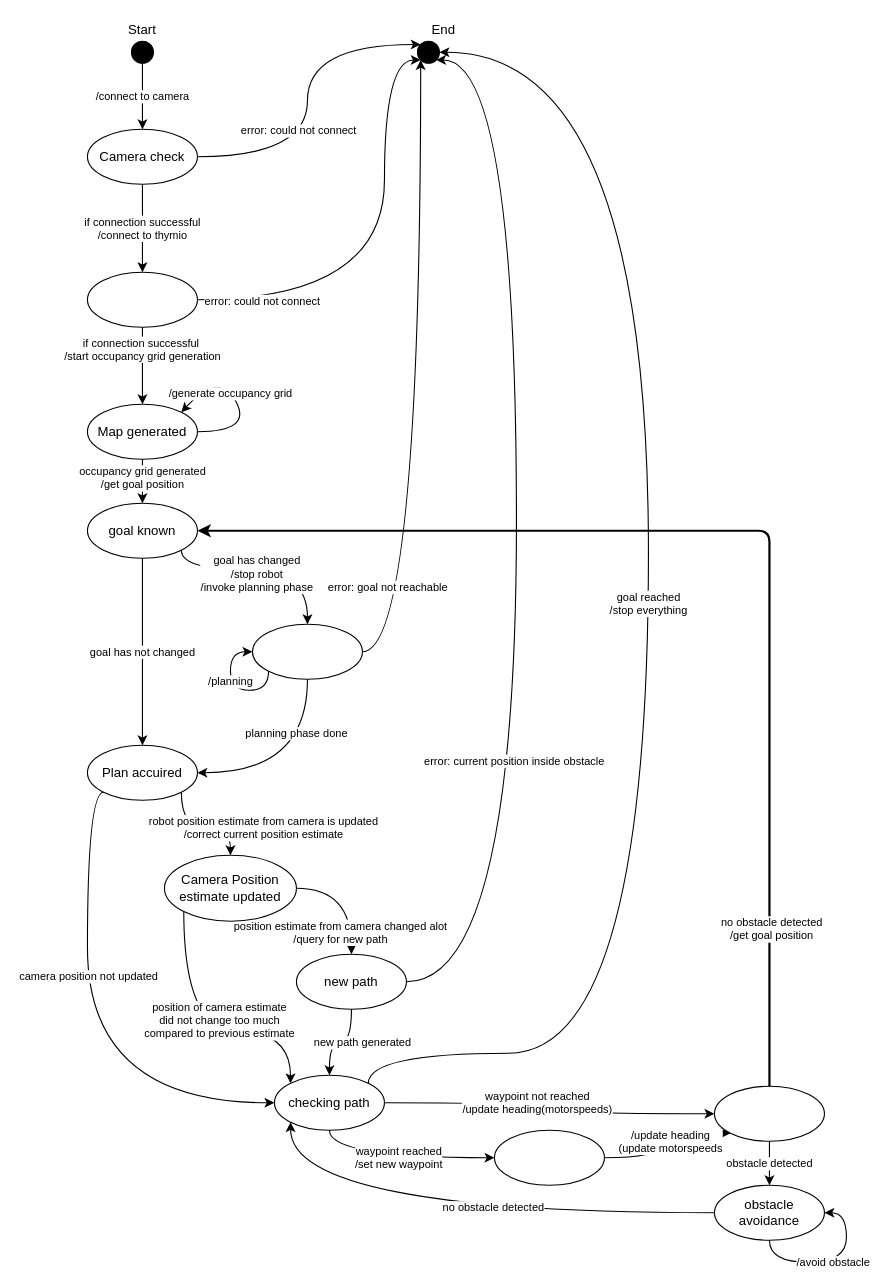
The diagram is 889 pixels wide and 1287 high, and some of its shapes have lost their labels. Here are the shapes that lost their labels. From the top down, the centre of each, then its label:
At point (141, 299): "thymio check".
At point (306, 651): "planning".
At point (768, 1113): "under way".
At point (548, 1157): "new waypoint".
